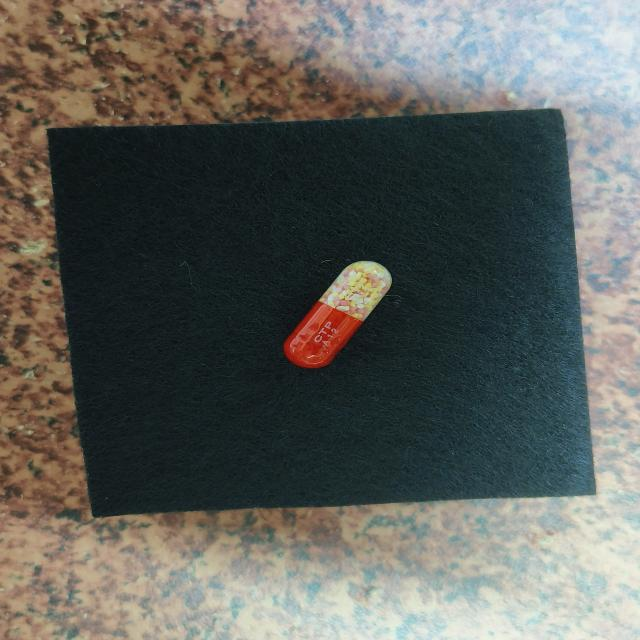Intact Capsule: (283, 261, 392, 368)
